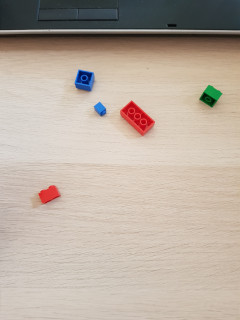1x1 blue: (93, 102, 107, 117)
1x2 red: (38, 185, 61, 204)
2x2 blue: (75, 69, 96, 90)
2x2 green: (198, 84, 222, 109)
2x4 red: (121, 100, 156, 138)
